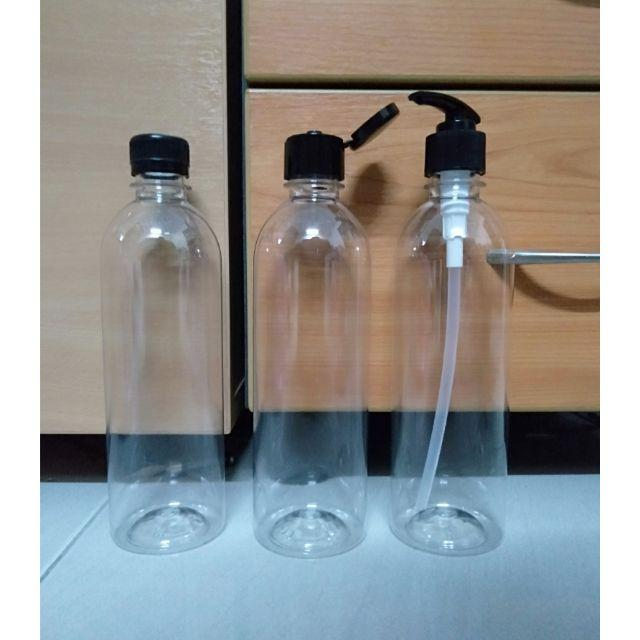plastic: (250, 104, 393, 552), (383, 90, 515, 558), (107, 128, 231, 555)
